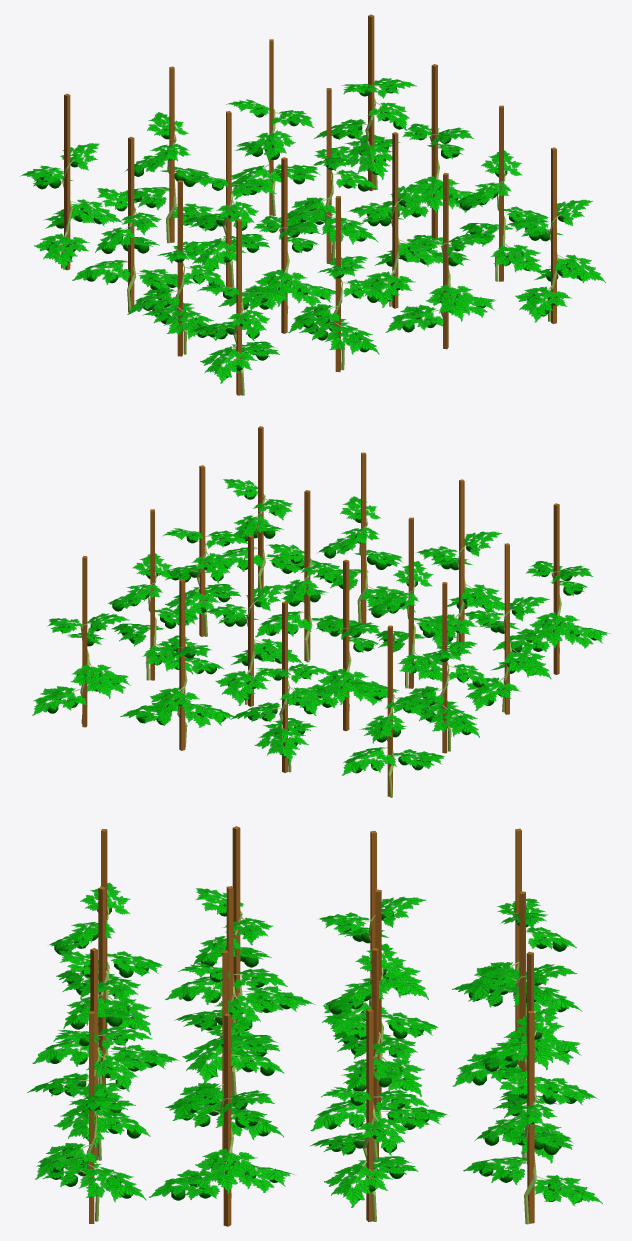
File: tomato_1.glb
3 views of the same model, one above another, from view 1: azimuth 30°, elevation 25°; view 2: azimuth 150°, elevation 25°; view 3: azimuth 270°, elevation 25° (orthographic). The views are drawn at different scales.
Parts seen in each view (by area): view 1: Tomatoe_F2; view 2: Tomatoe_F2; view 3: Tomatoe_F2.
Boxes of the visible parts, box(x1,y1,x2,y2) form: Tomatoe_F2: box(20, 14, 605, 395); Tomatoe_F2: box(32, 426, 609, 797); Tomatoe_F2: box(27, 826, 602, 1226).
Bounding box in the file's own units: 2.28 × 0.8909 × 2.32.
1 material, 1 textured.
